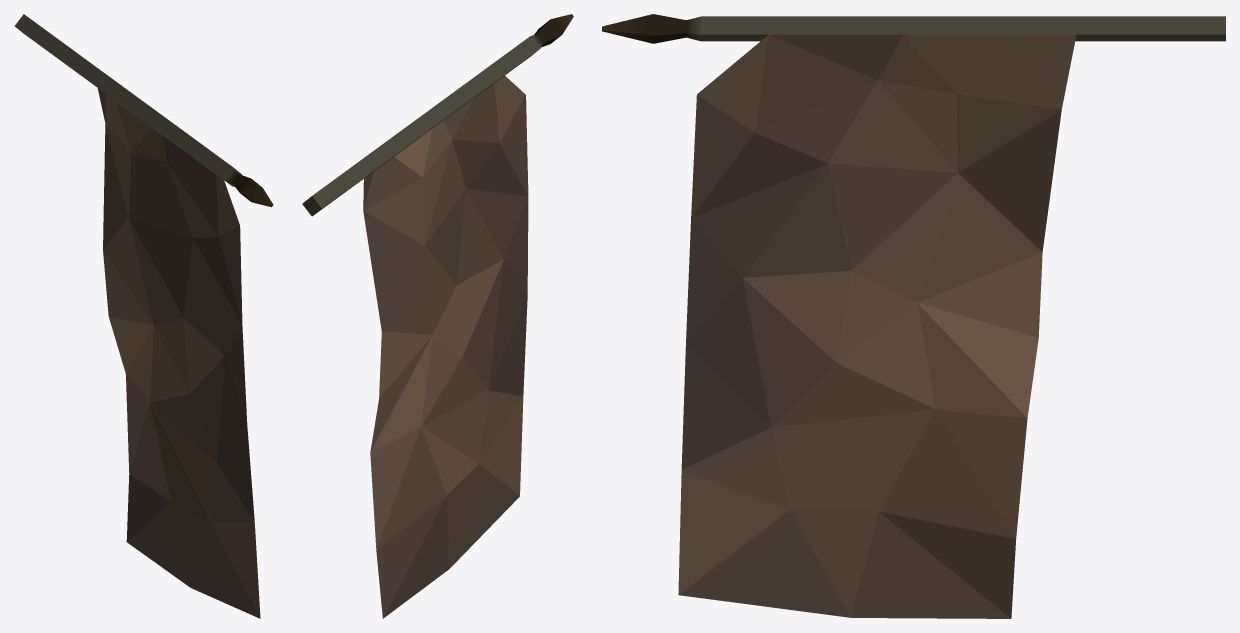
The model's file is Prop_OverhangF.fbx.
The picture shows the model from 3 angles, left to right: view 1: azimuth 30°, elevation 25°; view 2: azimuth 150°, elevation 25°; view 3: azimuth 270°, elevation 25°; orthographic projection. The views are drawn at different scales.
Parts seen in each view (by area): view 1: Prop_OverhangF; view 2: Prop_OverhangF; view 3: Prop_OverhangF.
Part boxes in pixels (x1,y1,x2,y2): Prop_OverhangF: [14, 14, 273, 618]; Prop_OverhangF: [302, 14, 573, 618]; Prop_OverhangF: [602, 14, 1225, 618].
Bounding box in the file's own units: 18.28 × 239 × 227.
